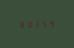eight: (18, 20, 24, 28)
five: (39, 19, 45, 27)
nine: (46, 19, 52, 27)
three: (32, 20, 38, 27)
zero: (25, 20, 31, 28)
